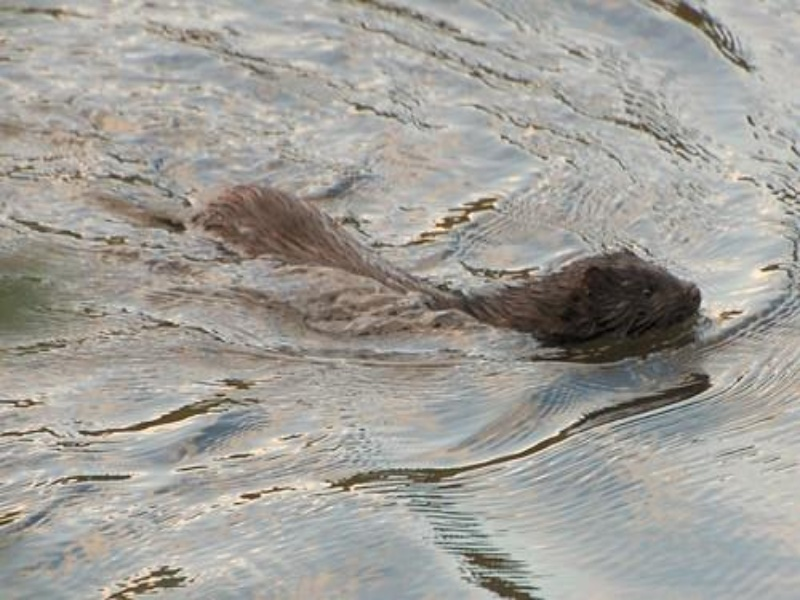minkish: (76, 174, 704, 344)
